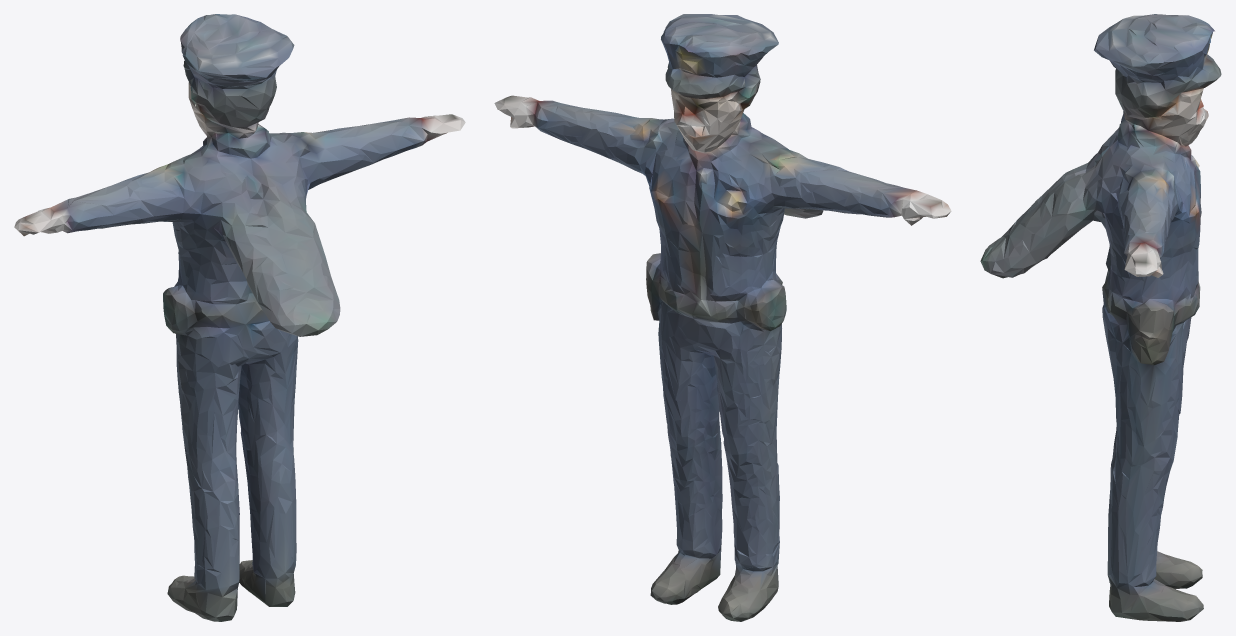
File: cop.glb
The picture shows the model from 3 angles, left to right: view 1: azimuth 30°, elevation 25°; view 2: azimuth 150°, elevation 25°; view 3: azimuth 270°, elevation 25°; orthographic projection.
Parts seen in each view (by area): view 1: world; view 2: world; view 3: world.
Boxes of the visible parts, x1=… form: world: x1=14, y1=14, x2=465, y2=621; world: x1=494, y1=14, x2=951, y2=621; world: x1=980, y1=14, x2=1221, y2=621.
Size of the model in its own units: 1.47 by 1.8 by 0.6797.
